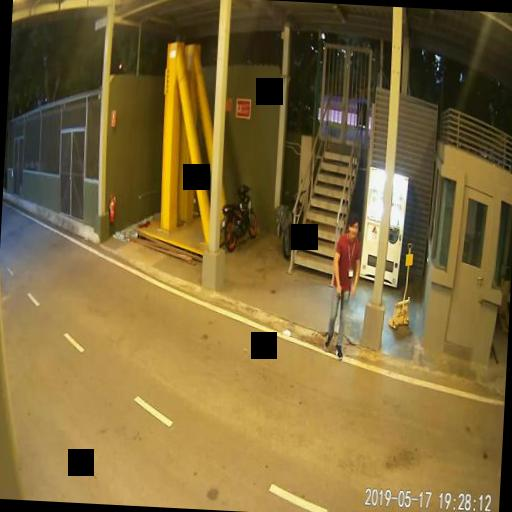Handgun: (334, 284, 344, 308)
